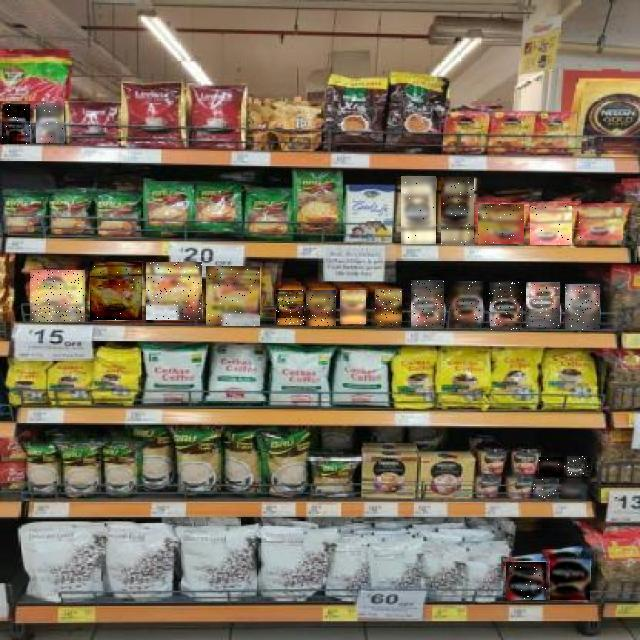Coffee: (146, 263, 202, 321), (206, 266, 260, 326), (90, 263, 142, 321), (30, 270, 85, 322), (401, 176, 436, 244), (441, 178, 474, 246), (478, 204, 524, 244), (550, 557, 590, 600), (530, 206, 572, 245), (565, 284, 600, 330), (579, 208, 623, 244), (411, 280, 444, 328), (489, 282, 522, 330), (449, 282, 483, 328), (526, 283, 560, 329), (506, 562, 546, 600), (36, 103, 64, 143), (2, 104, 30, 144), (306, 291, 336, 327), (276, 290, 304, 325), (375, 290, 402, 326), (340, 291, 366, 325), (561, 479, 591, 499), (540, 457, 566, 477), (533, 479, 559, 499), (568, 456, 590, 476)
